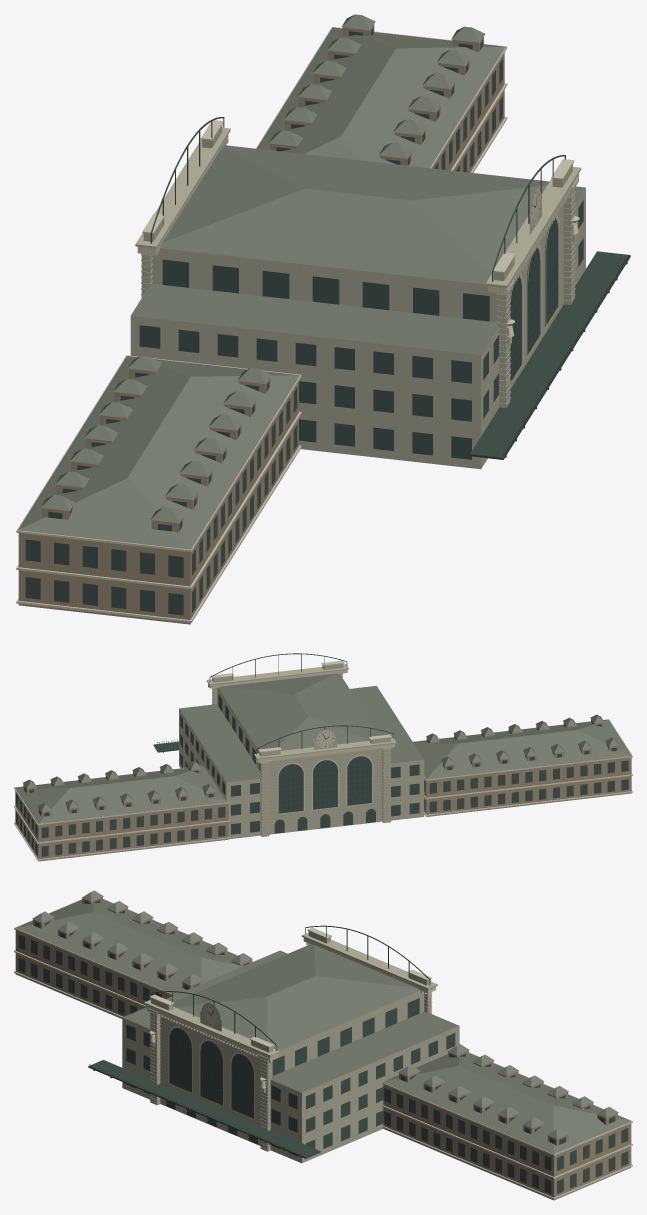
Rendered from denver-union-station-near.glb.
3 renders of one model, top to bottom at view 1: azimuth 30°, elevation 25°; view 2: azimuth 150°, elevation 25°; view 3: azimuth 270°, elevation 25°, orthographic. The views are drawn at different scales.
Parts seen in each view (by area): view 1: denver-union-station-0-roof, denver-union-station-0-stone, denver-union-station-0-glass, denver-union-station-0-pink, denver-union-station-0-metal, denver-union-station-0-trim; view 2: denver-union-station-0-roof, denver-union-station-0-glass, denver-union-station-0-pink, denver-union-station-0-stone, denver-union-station-0-trim, denver-union-station-0-metal, denver-union-station-0-mortar; view 3: denver-union-station-0-roof, denver-union-station-0-stone, denver-union-station-0-glass, denver-union-station-0-pink, denver-union-station-0-trim, denver-union-station-0-metal.
Boxes of the visible parts, x1,y1,x2,y2 form: denver-union-station-0-roof: (18, 14, 585, 549); denver-union-station-0-stone: (130, 125, 585, 469); denver-union-station-0-glass: (25, 27, 583, 615); denver-union-station-0-pink: (18, 24, 504, 624); denver-union-station-0-metal: (150, 117, 630, 459); denver-union-station-0-trim: (16, 26, 579, 622); denver-union-station-0-roof: (15, 673, 631, 823); denver-union-station-0-glass: (16, 694, 628, 856); denver-union-station-0-pink: (15, 719, 631, 861); denver-union-station-0-stone: (179, 663, 424, 839); denver-union-station-0-trim: (14, 660, 632, 860); denver-union-station-0-metal: (153, 653, 393, 833); denver-union-station-0-mortar: (270, 750, 381, 831); denver-union-station-0-roof: (15, 890, 631, 1154); denver-union-station-0-stone: (122, 931, 459, 1163); denver-union-station-0-glass: (18, 900, 628, 1193); denver-union-station-0-pink: (15, 897, 631, 1200); denver-union-station-0-trim: (14, 899, 632, 1199); denver-union-station-0-metal: (88, 925, 430, 1158).
Bounding box in the file's own units: 127 × 28.18 × 127.
